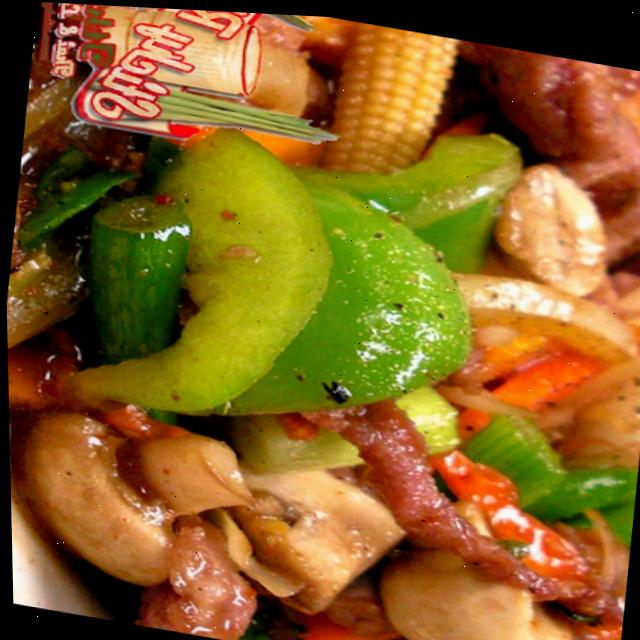蔬菜料理: (59, 94, 640, 640)
